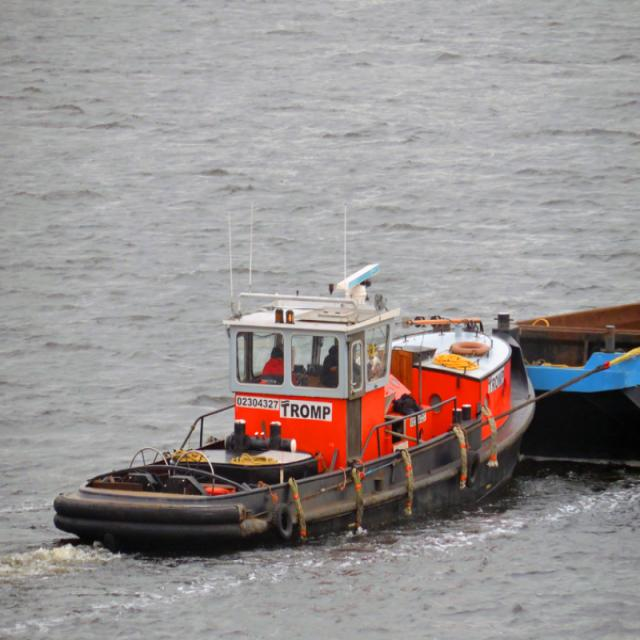tugboat: (49, 197, 541, 564)
